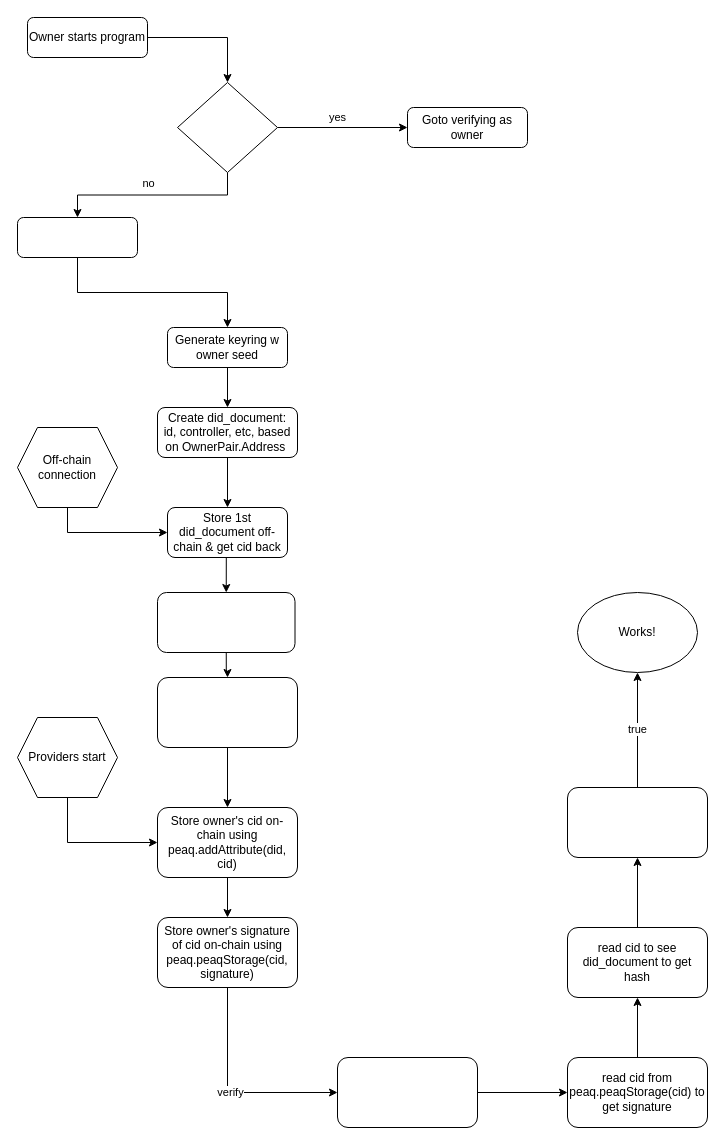
The diagram is 725 pixels wide and 1145 high, and some of its shapes have lost their labels. Here are the shapes that lost their labels. From the top down, the centre of each, then its label:
At (x=227, y=127): "Owner did exists".
At (x=77, y=237): "did_document creation process".
At (x=225, y=622): "Hash cid and update did_document to include this hash at cid".
At (x=227, y=712): "Sign hashed_cid with Owner's keyring object".
At (x=637, y=822): "Verify using your own keypair KeyPair.verify(hash, signature, OwnersPublicKey)".
At (x=407, y=1092): "readAttribute(did) from known public key to get cid".
